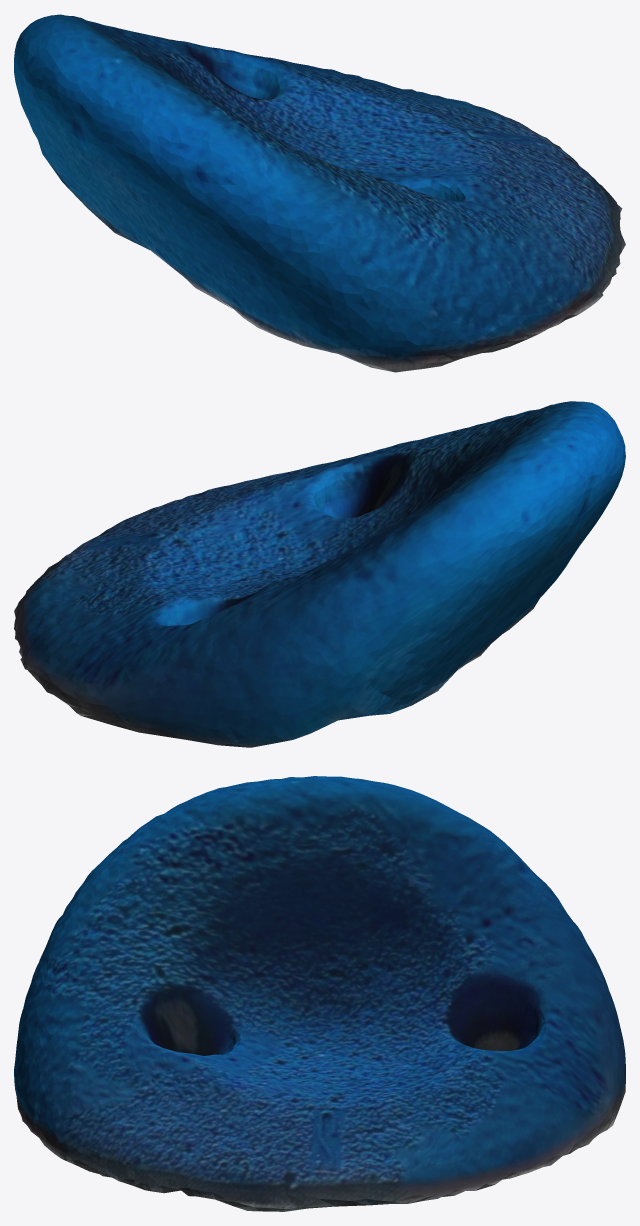
Rendered from SNAP_5_S_num10.glb.
3 renders of one model, top to bottom at view 1: azimuth 30°, elevation 25°; view 2: azimuth 150°, elevation 25°; view 3: azimuth 270°, elevation 25°, orthographic. The views are drawn at different scales.
Bounding box in the file's own units: 0.2785 × 0.1308 × 0.3082.
1 material, 1 textured.
